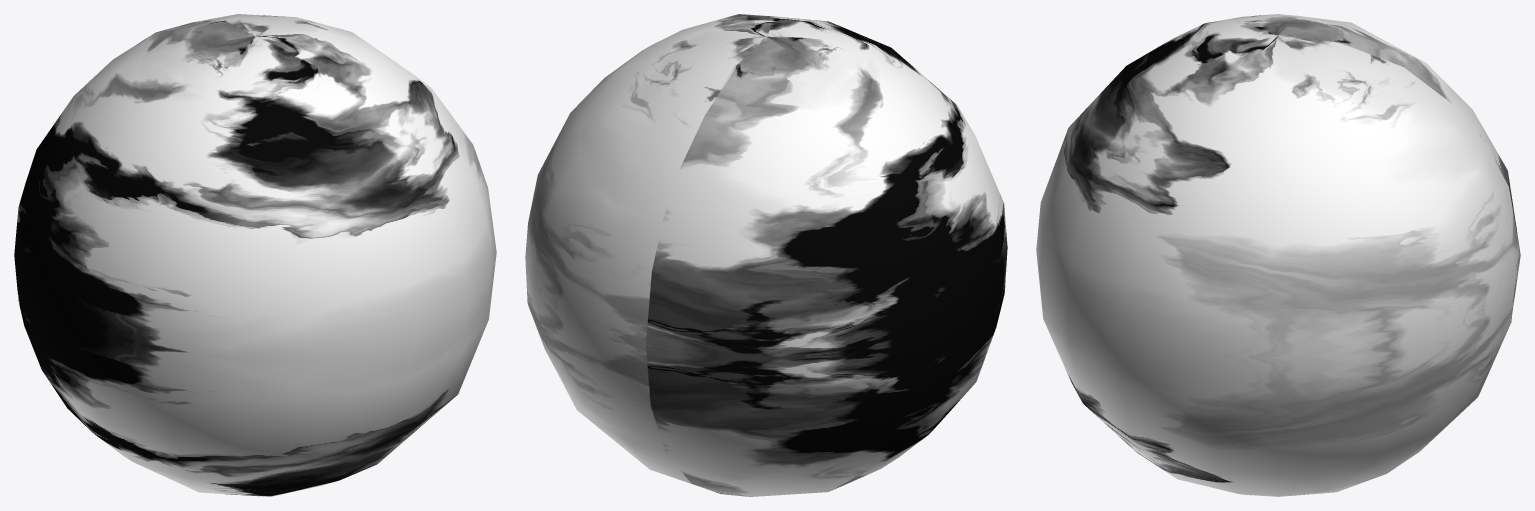
File: Skybox_Mesh.FBX
3 views of the same model, side by side, from view 1: azimuth 30°, elevation 25°; view 2: azimuth 150°, elevation 25°; view 3: azimuth 270°, elevation 25° (orthographic).
Parts seen in each view (by area): view 1: Skybox_Mesh; view 2: Skybox_Mesh; view 3: Skybox_Mesh.
Part boxes in pixels (x1,y1,x2,y2): Skybox_Mesh: (14,14,496,496); Skybox_Mesh: (525,14,1007,496); Skybox_Mesh: (1036,14,1520,496).
Size of the model in its own units: 8192 by 8225 by 8214.
